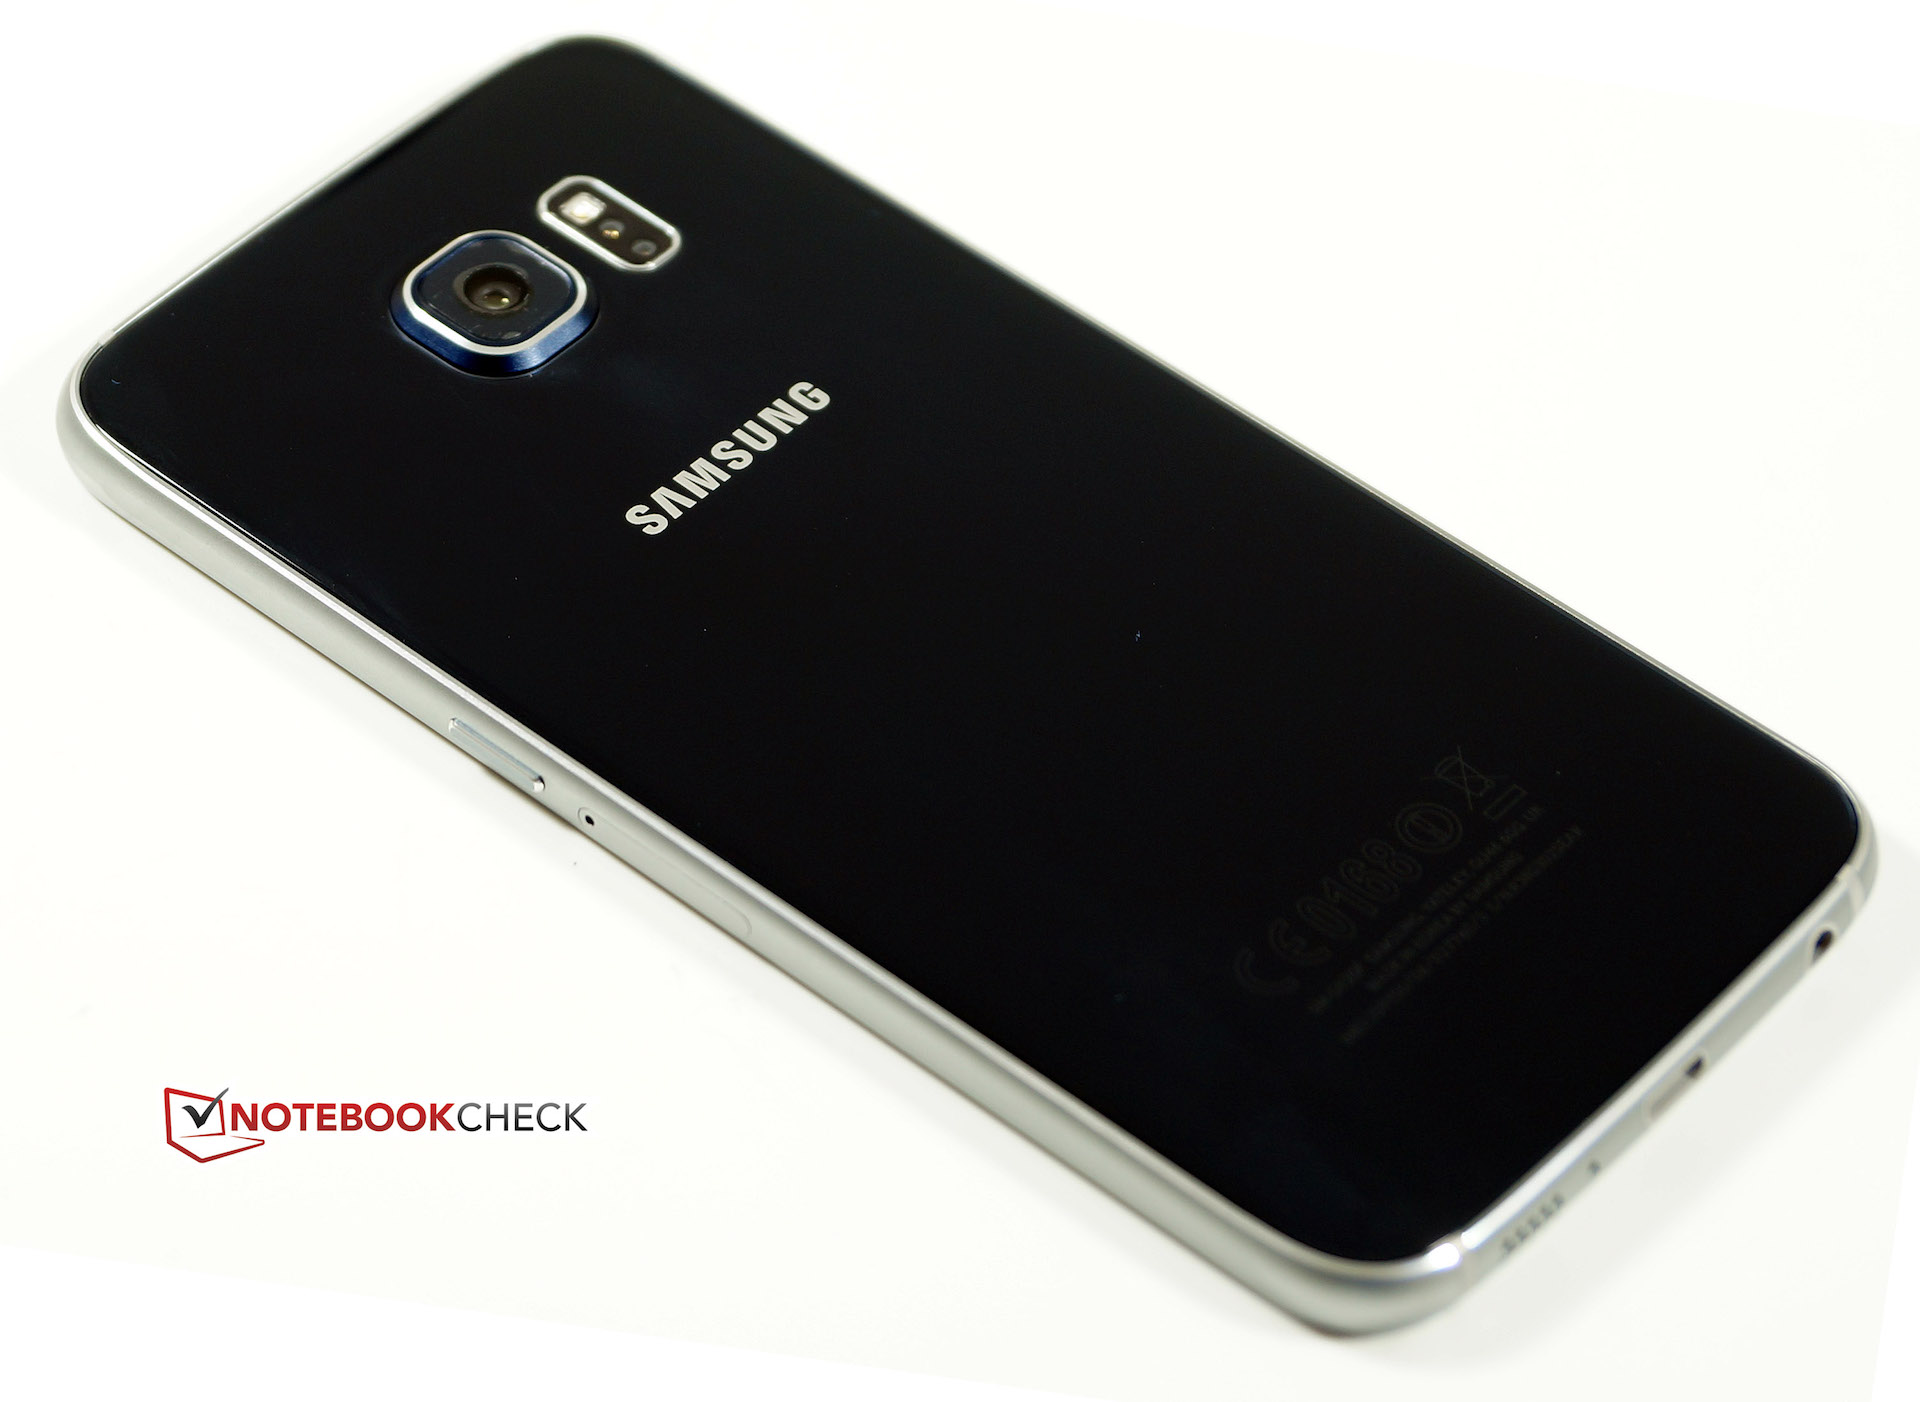smartphone: (54, 34, 1883, 1344)
